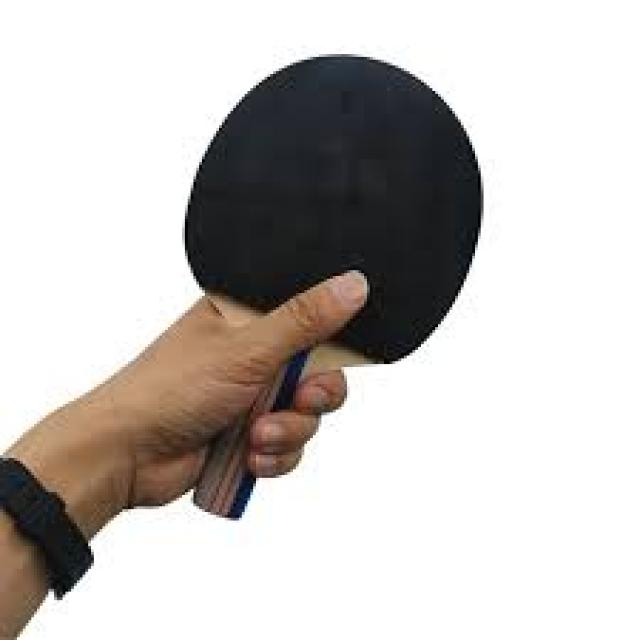TT Racket: (115, 0, 552, 445)
